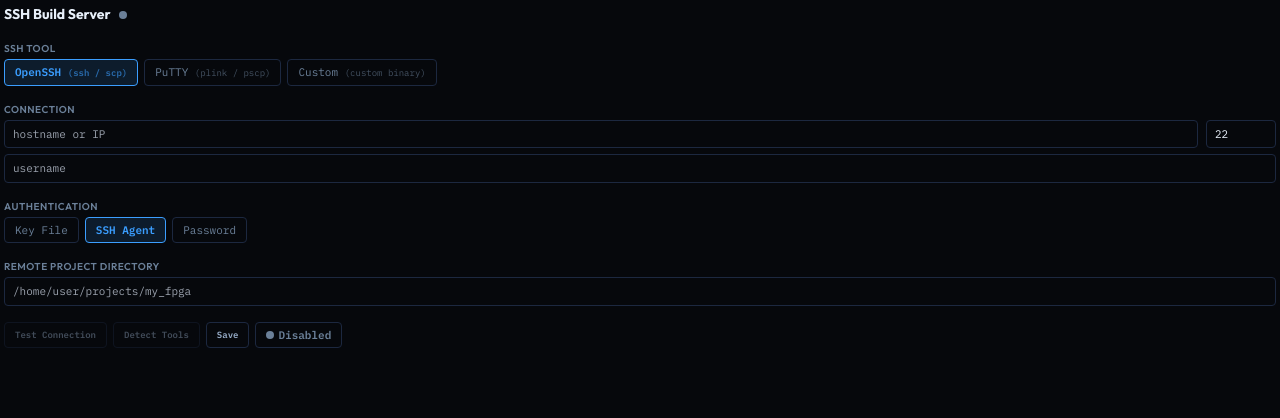
it: SshPanel › shows custom path inputs only when Custom is selected
Expected: the field with placeholder "/usr/bin/ssh" is not shown
// Click Custom
Click the text "Custom (custom binary)". click: (362, 72)
box: [288, 59, 437, 86]
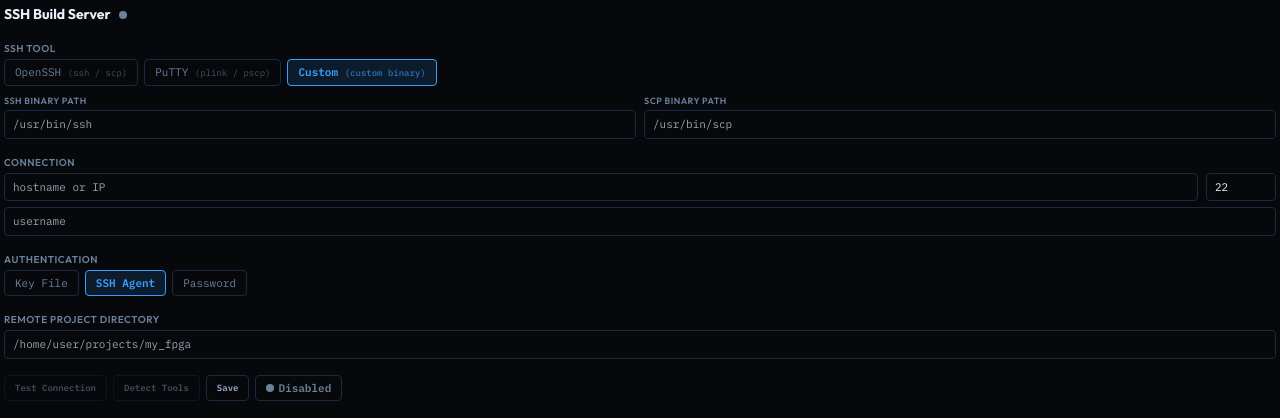
Expected: the field with placeholder "/usr/bin/ssh" is shown, [4, 110, 636, 138]
Expected: the field with placeholder "/usr/bin/scp" is shown, [644, 110, 1276, 138]
